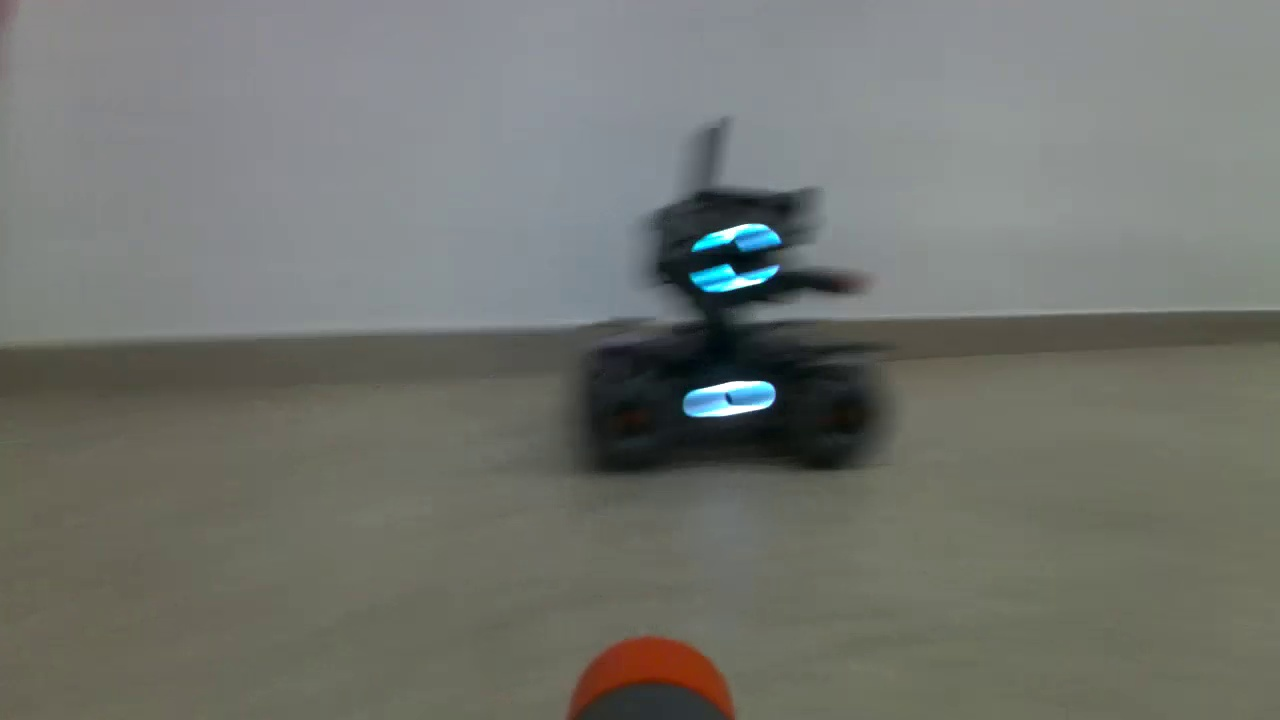robot: (575, 181, 904, 464)
